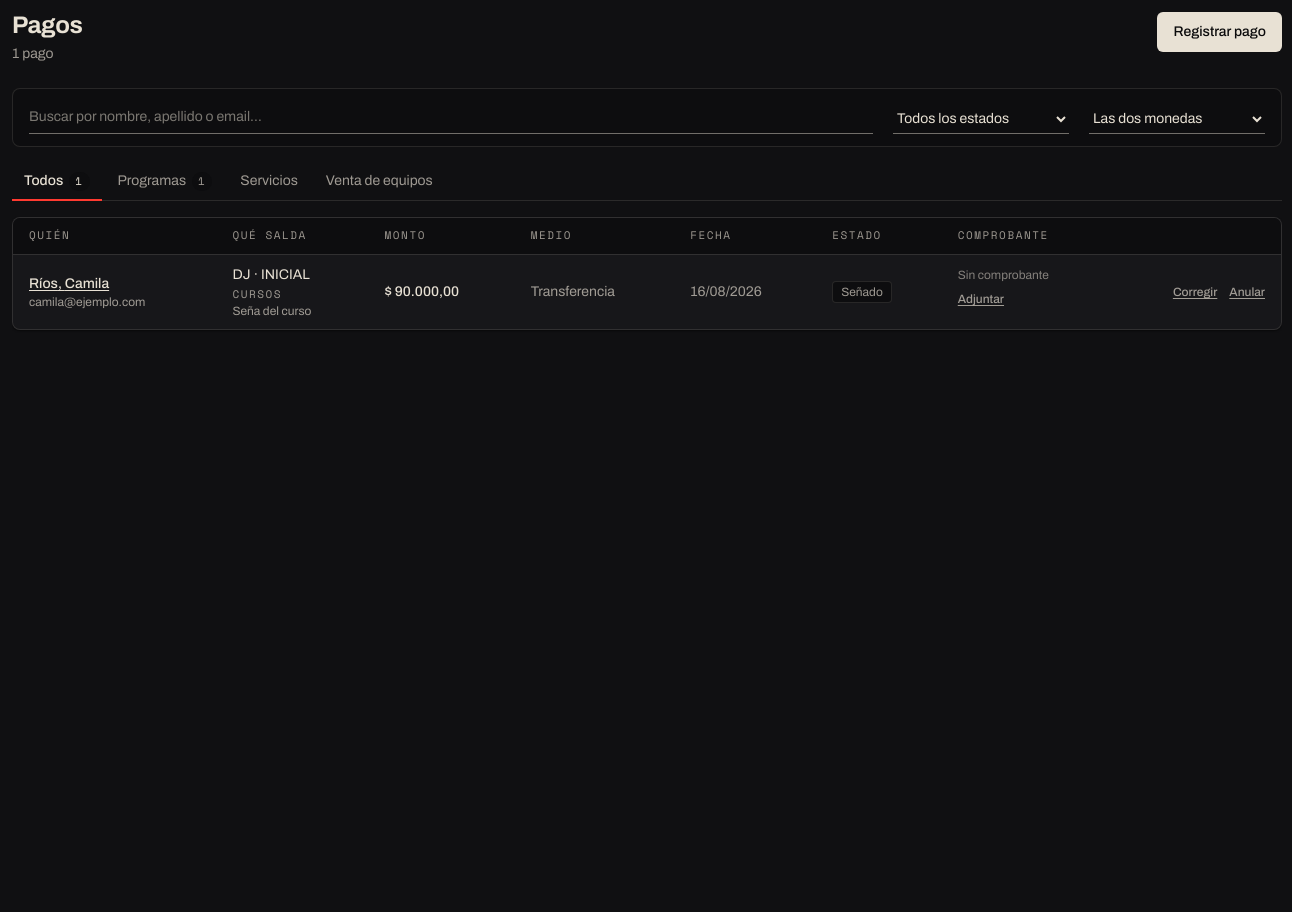
el pagador sin cuenta y la corrección (V19) › corregir no ofrece cambiar de quién es ni qué salda
Click the button "Corregir".
click(1195, 292)  # box [1173,284,1217,300]
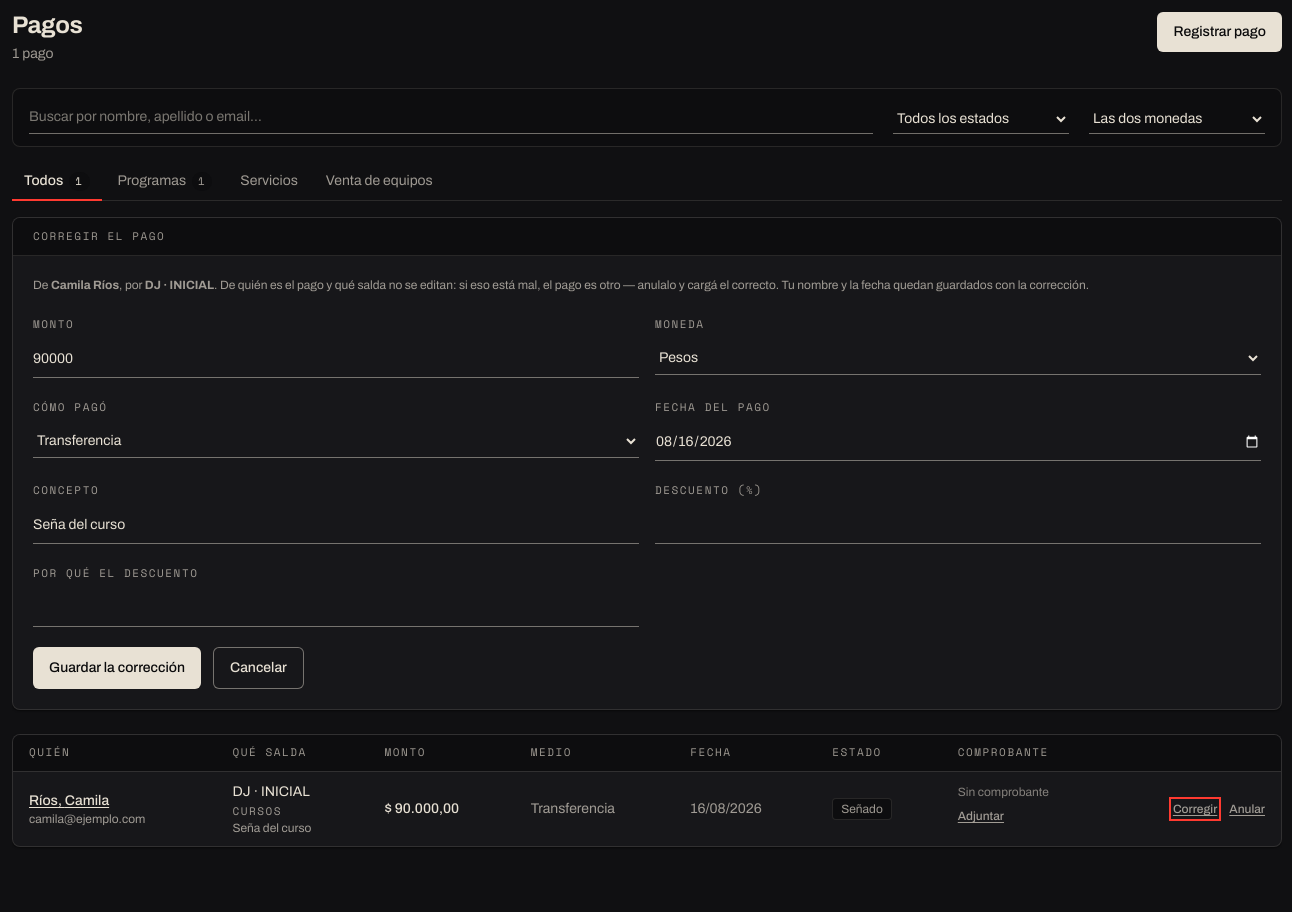
Result: the text "no se editan" is shown at [214,278,1089,292]
